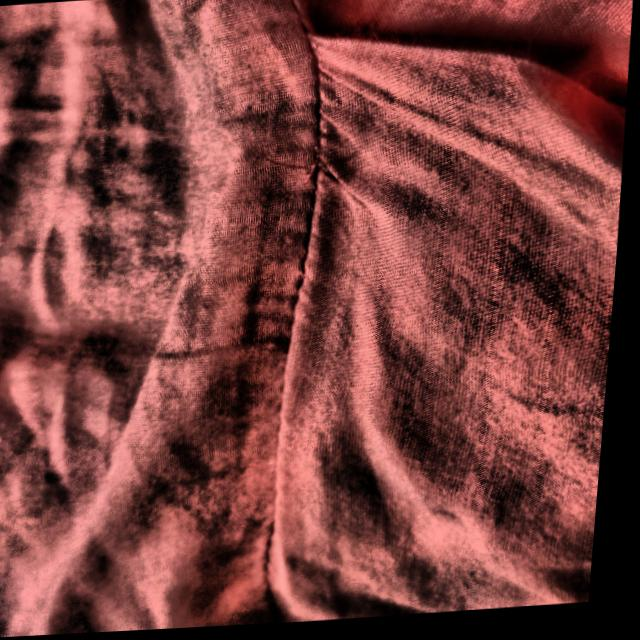Stitch: (244, 109, 371, 259)
